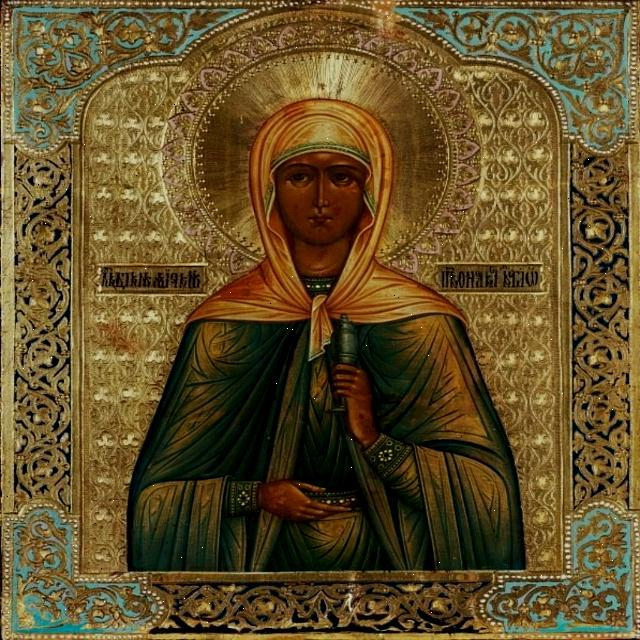aura: (161, 18, 482, 282)
maria_magdalena: (128, 95, 526, 569)
urn: (321, 310, 362, 414)
